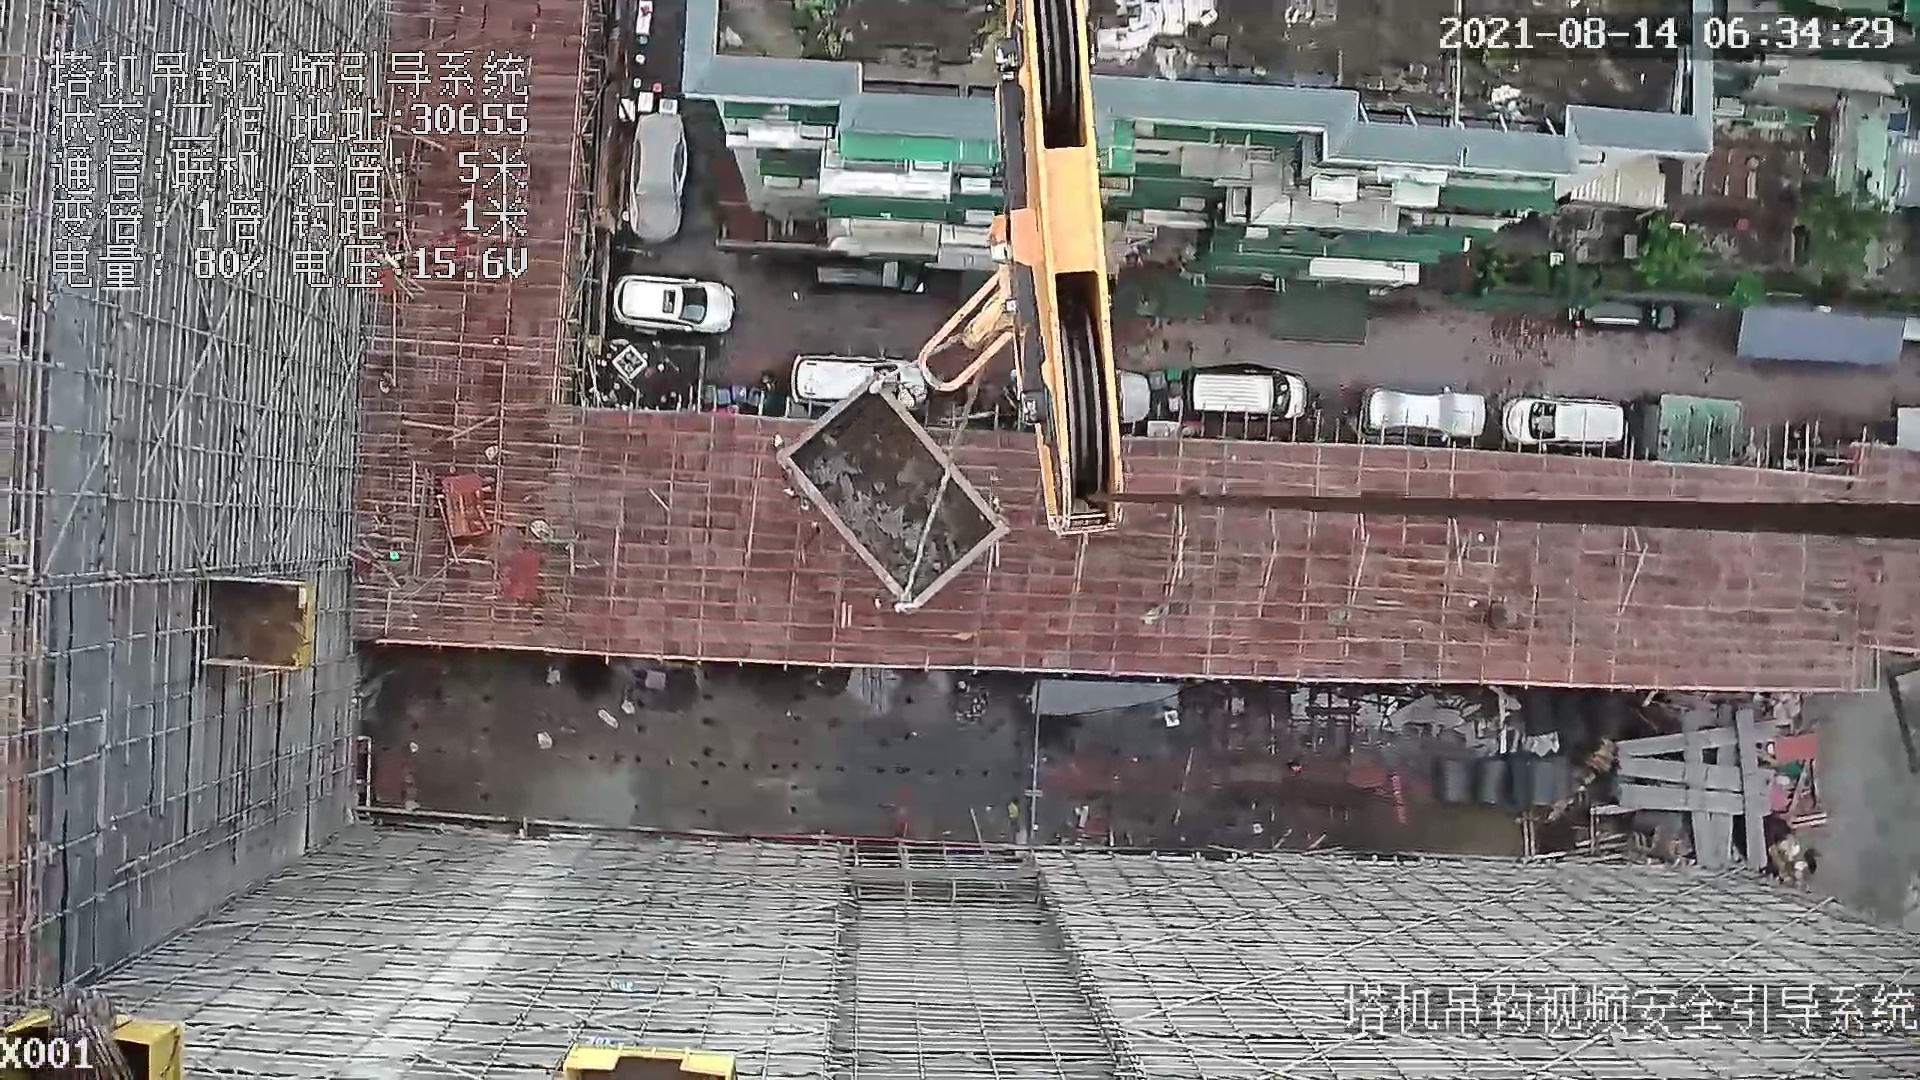hook: (915, 1, 1133, 531)
hopper: (783, 382, 1014, 622)
